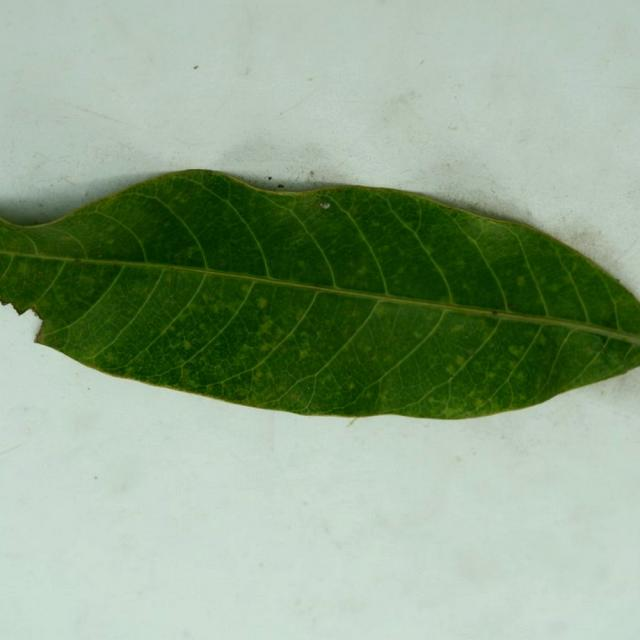Mango: (0, 170, 639, 419)
Powdery_Mildew: (604, 347, 624, 368), (253, 297, 275, 316), (599, 310, 619, 328), (171, 194, 193, 208), (78, 274, 96, 289), (259, 319, 273, 333), (238, 285, 251, 298), (509, 345, 523, 357), (184, 248, 198, 260), (439, 293, 453, 304), (355, 265, 368, 276), (451, 323, 465, 333), (180, 366, 190, 380), (537, 335, 548, 347), (454, 258, 466, 268), (516, 276, 527, 286), (299, 331, 310, 341), (423, 245, 434, 255), (381, 390, 391, 401), (396, 266, 407, 276), (104, 353, 116, 362), (549, 284, 561, 293), (299, 349, 309, 359), (456, 356, 466, 366), (378, 245, 390, 253), (288, 392, 300, 400), (475, 399, 485, 408), (363, 344, 373, 353), (212, 304, 222, 313), (260, 343, 271, 351), (504, 302, 515, 310), (183, 340, 192, 349), (297, 260, 306, 269), (516, 371, 525, 380), (413, 331, 423, 339), (428, 397, 438, 405), (371, 220, 381, 228), (347, 382, 356, 390), (199, 325, 207, 334), (106, 238, 116, 245), (320, 202, 330, 209), (255, 372, 263, 380), (365, 390, 373, 398), (599, 346, 607, 354), (73, 258, 82, 265), (466, 348, 475, 355), (491, 309, 499, 316), (35, 272, 43, 278), (154, 202, 161, 208), (447, 206, 454, 211), (96, 253, 103, 258), (208, 172, 214, 177), (616, 278, 621, 283), (307, 77, 313, 81)
